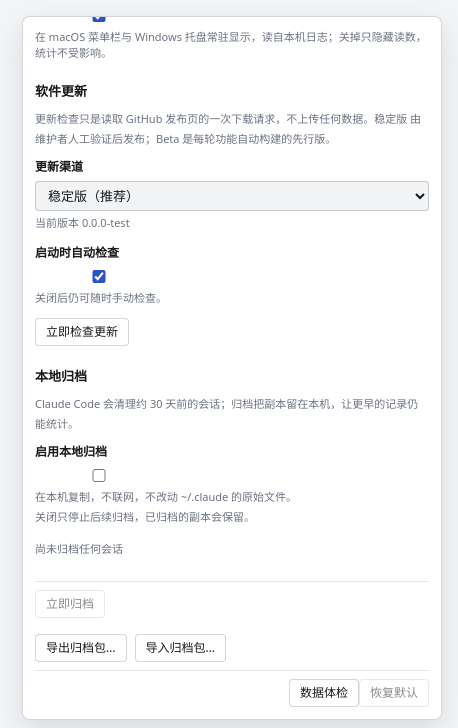
Test: 本地归档 section › surfaces a disk-full failure in place and as an error toast
(page scrolled)
Click the checkbox labelled "启用本地归档". click: [99, 476]
box: [39,469,159,482]
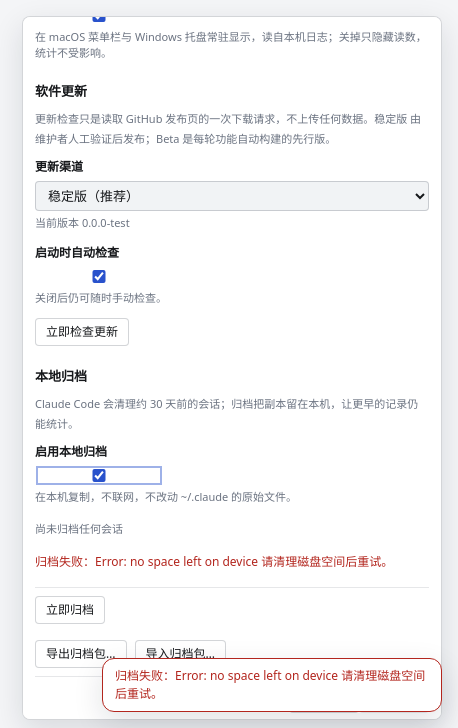
Expected: the checkbox labelled "启用本地归档" is checked, [39,469,159,482]
Expected: the message "归档失败：Error: no space left on device 请清理磁盘空间后重试。" below "尚未归档任何会话" is shown, [35,553,95,570]
Expected: the button "立即归档" is enabled, [35,596,105,624]
